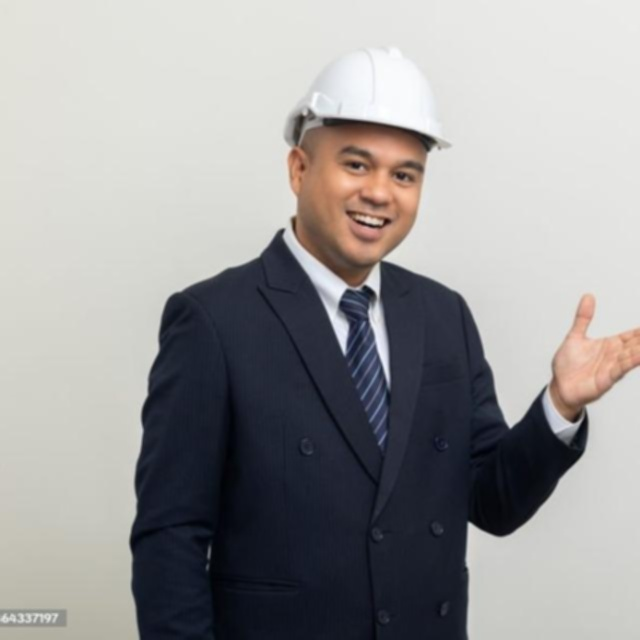Con_Casco: (282, 48, 453, 259)
Sin_Chaleco: (166, 258, 475, 638)
